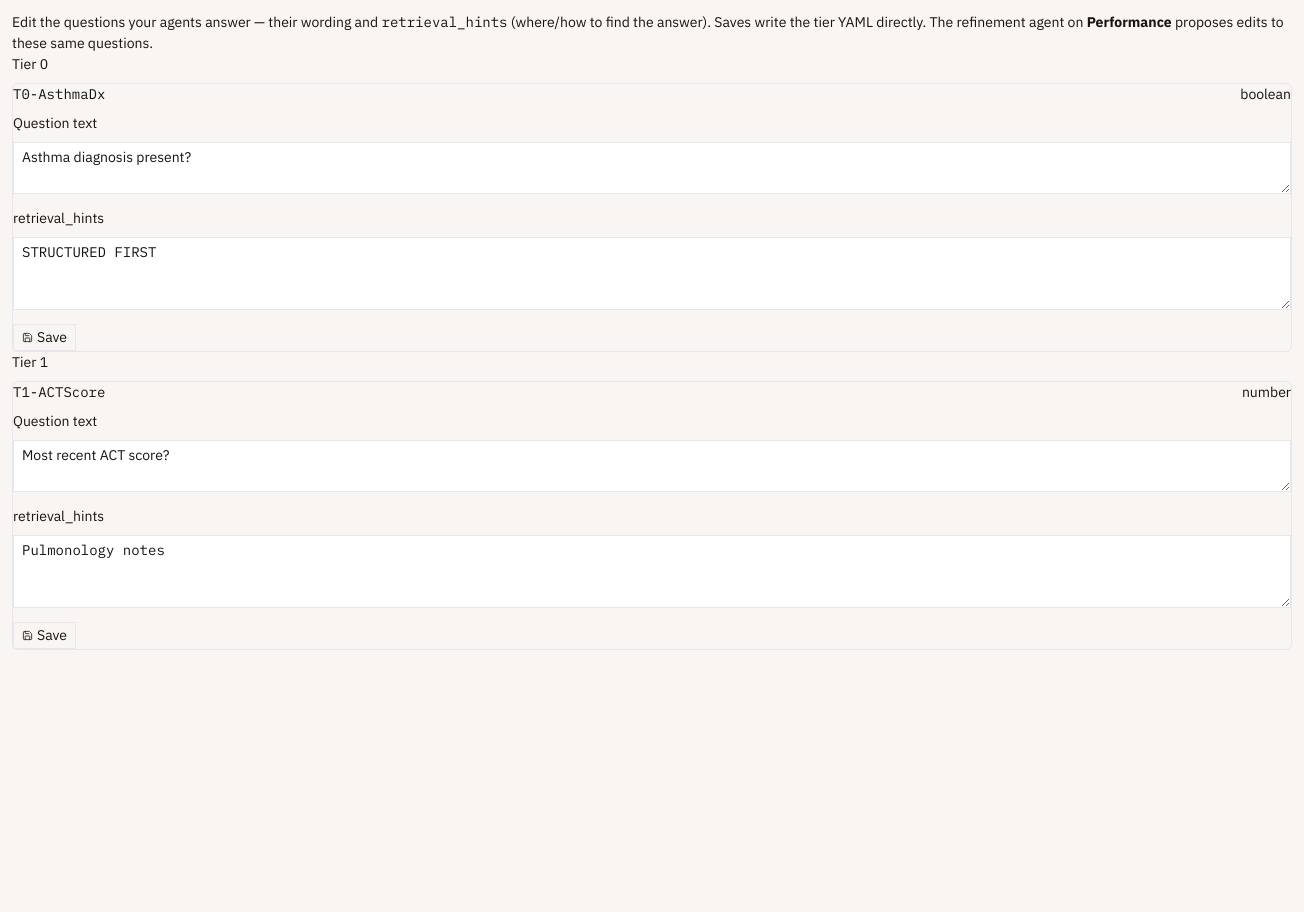
Scenario: AdherenceRubricPanel › Save is disabled until a field changes, then PUTs that question and shows saved
Expected: the text "T0-AsthmaDx" is shown, [13, 84, 105, 105]
Note: Edit T0-AsthmaDx's retrieval_hints.
Replace the text in the 2nd text box showing "STRUCTURED FIRST" with "STRUCTURED FIRST — exclude resolved J45 rows": (652, 274) [13, 237, 1291, 310]
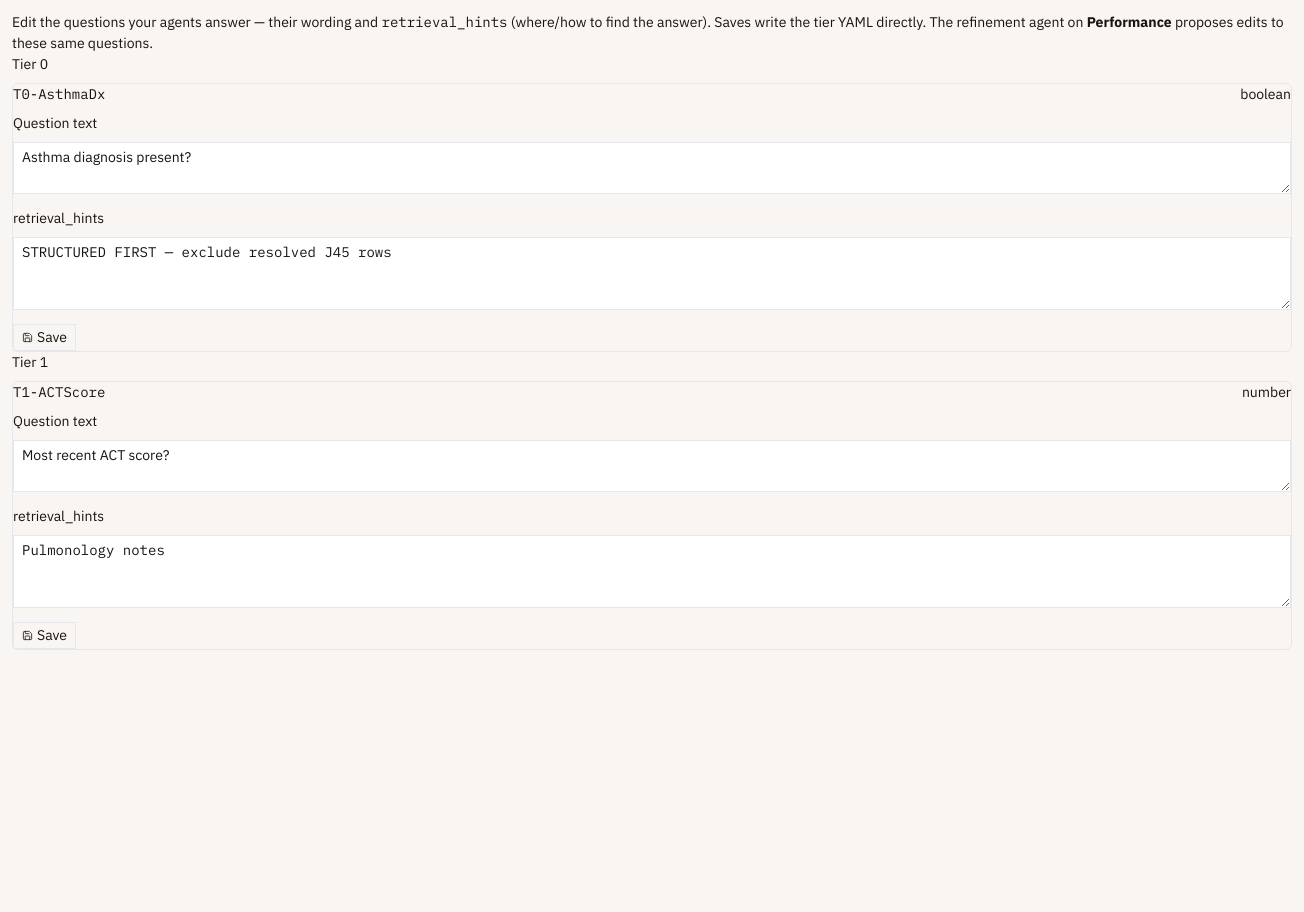
Click the button "Save" below "T0-AsthmaDx": (44, 338) [13, 324, 76, 351]
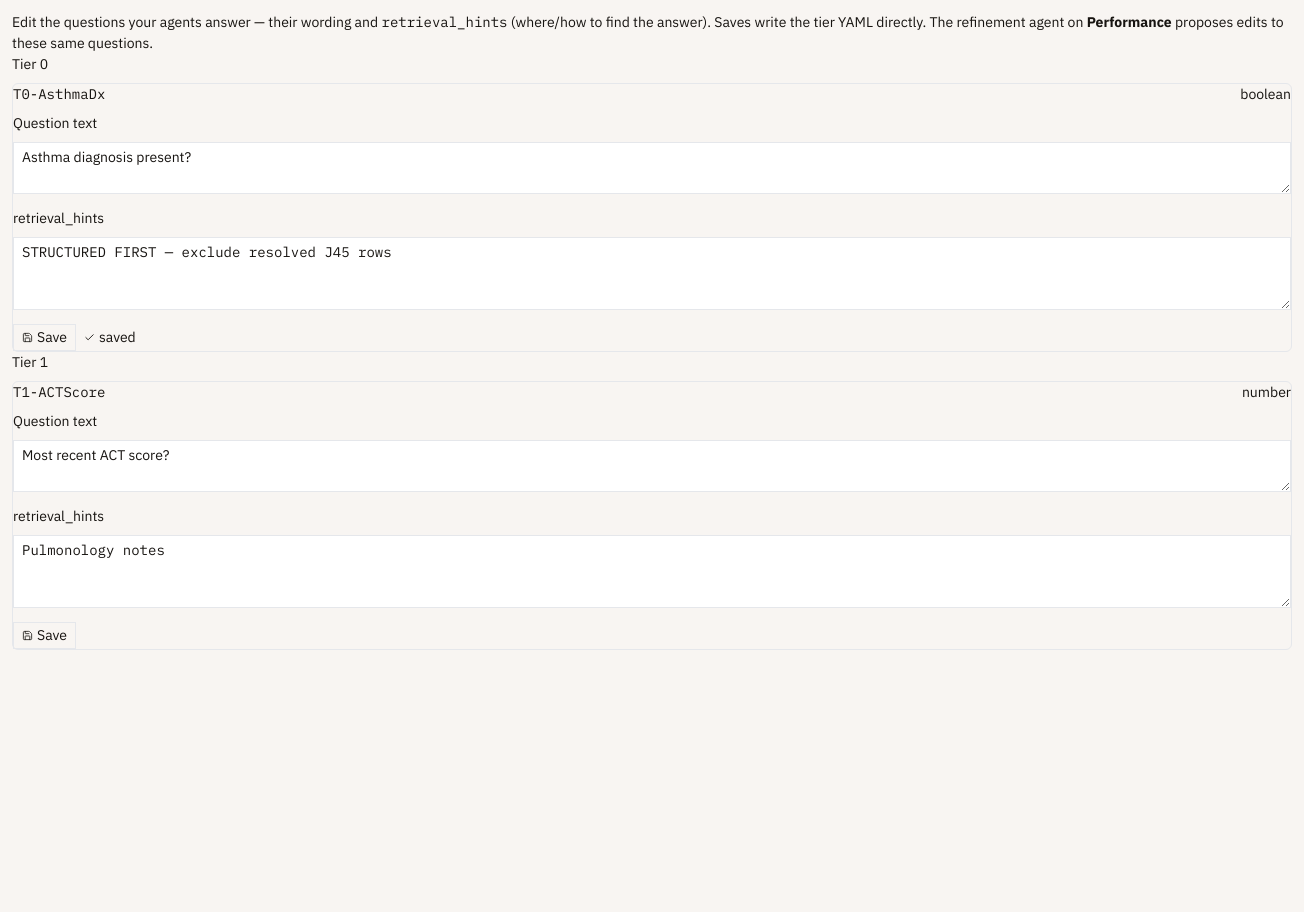
Expected: the text "saved" is shown, [84, 327, 136, 348]
